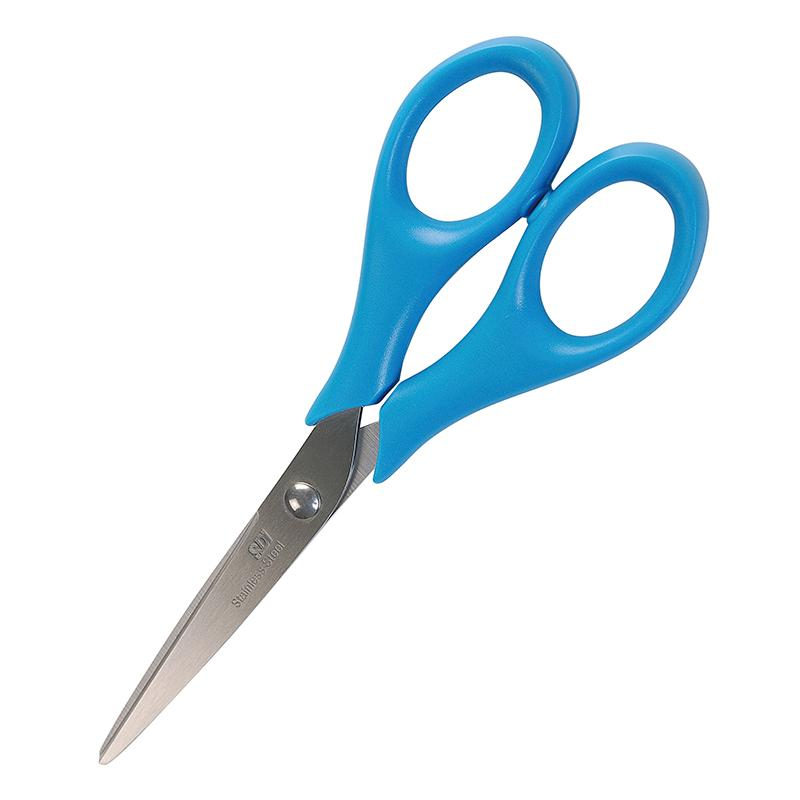scissors: (70, 31, 718, 772)
